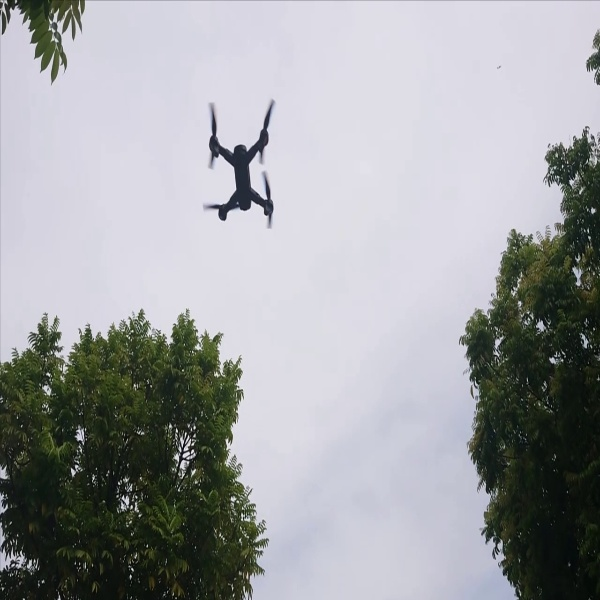drone: (199, 87, 284, 231)
